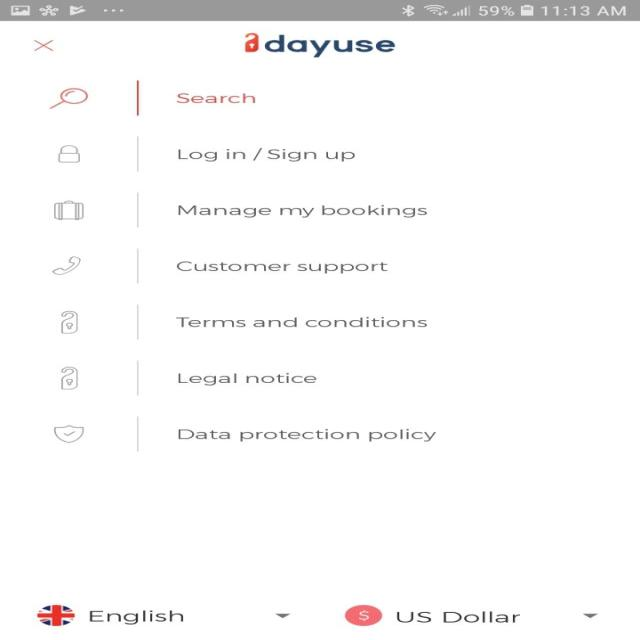Icon: (50, 87, 89, 109), (344, 604, 382, 626), (54, 200, 85, 220), (58, 145, 81, 163), (34, 40, 54, 51), (580, 612, 598, 618), (274, 613, 292, 618)
Image: (38, 604, 76, 626), (51, 256, 81, 275), (54, 425, 85, 443), (60, 310, 78, 333), (60, 366, 78, 389), (244, 33, 258, 52)
Text: (178, 428, 436, 442), (178, 204, 428, 217), (264, 34, 396, 58), (176, 316, 427, 328), (176, 260, 388, 274), (177, 148, 355, 162), (178, 372, 316, 386), (396, 610, 520, 623), (89, 610, 184, 624), (176, 93, 255, 103)
